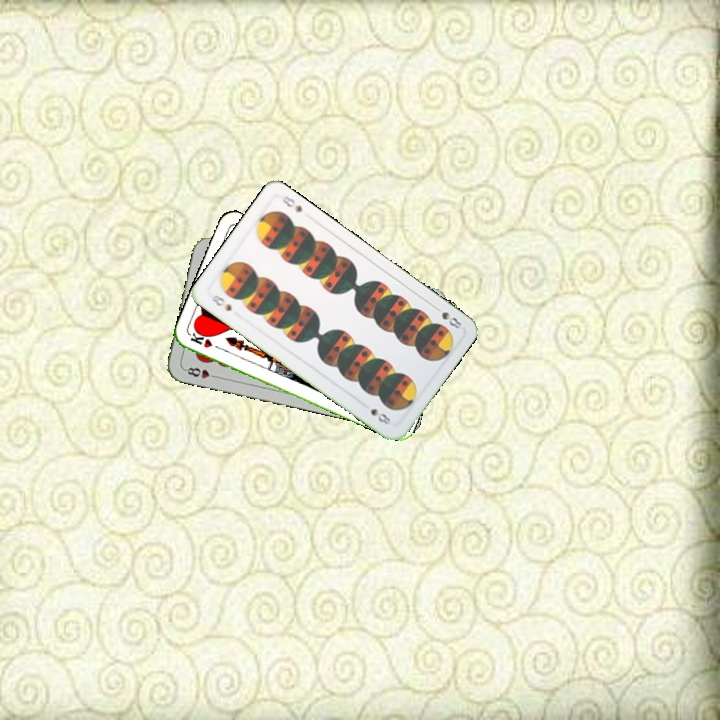H8: (181, 363, 221, 381)
HK: (187, 328, 226, 353)
S8: (429, 302, 464, 332), (207, 291, 234, 314)
